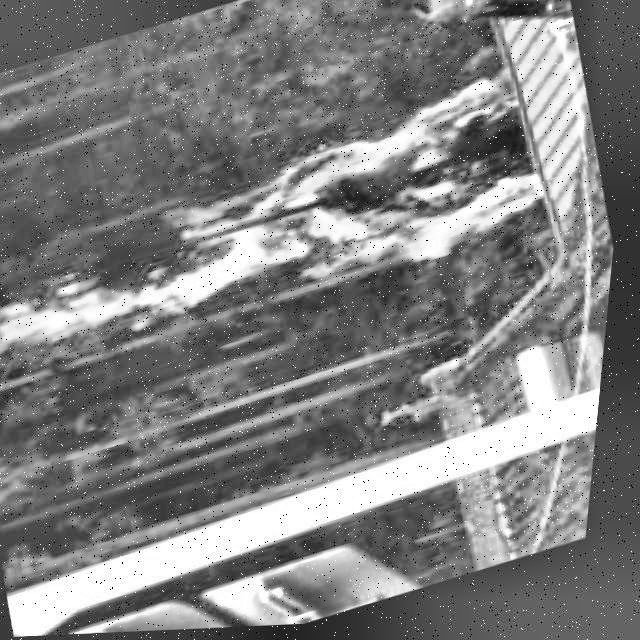Fire: (0, 67, 570, 414)
